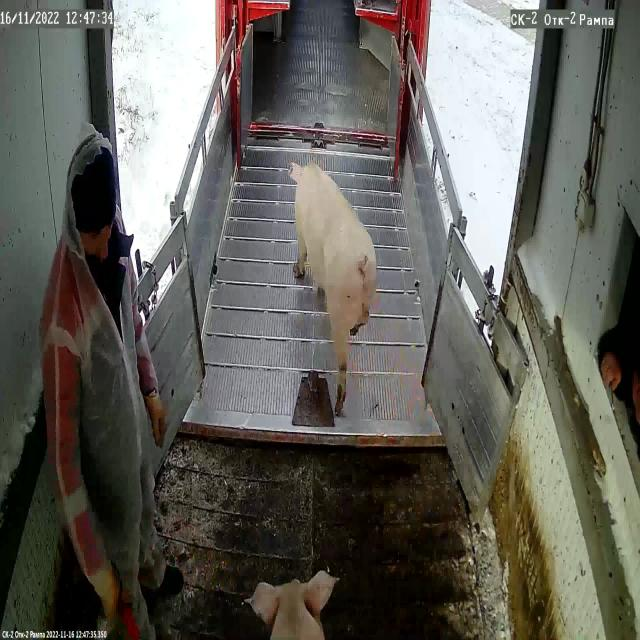pig: (292, 165, 376, 413), (249, 572, 336, 640)
